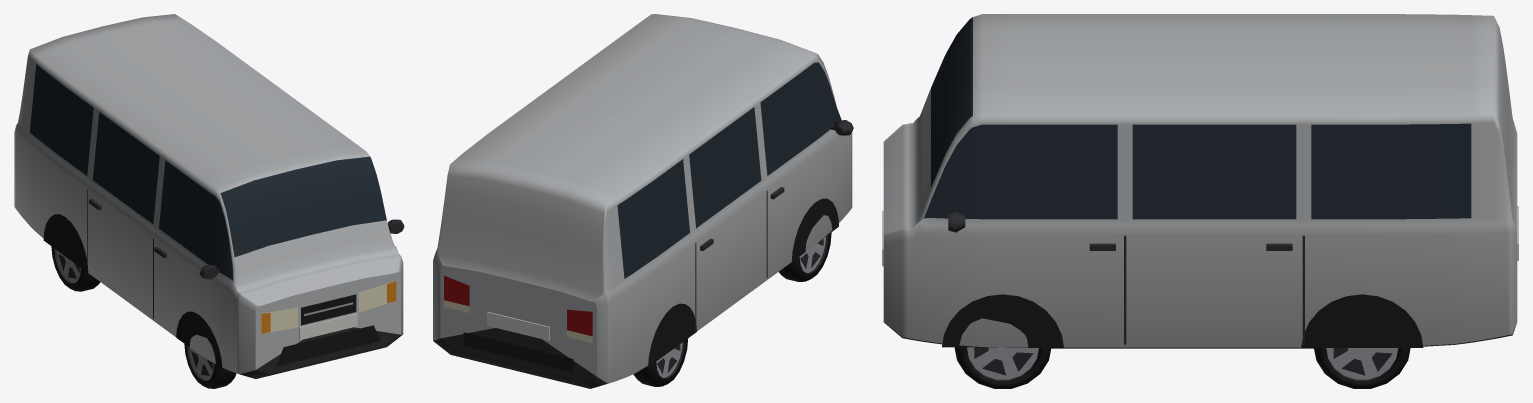
Rendered from micro_van.glb.
3 renders of one model, left to right at view 1: azimuth 30°, elevation 25°; view 2: azimuth 150°, elevation 25°; view 3: azimuth 270°, elevation 25°, orthographic. The views are drawn at different scales.
Visible parts, largest first — view 1: micro_van; view 2: micro_van; view 3: micro_van.
Part boxes in pixels (x1,y1,x2,y2): micro_van: [14, 14, 404, 388]; micro_van: [433, 14, 853, 388]; micro_van: [882, 14, 1518, 388].
Size of the model in its own units: 1.69 by 1.65 by 3.39.
